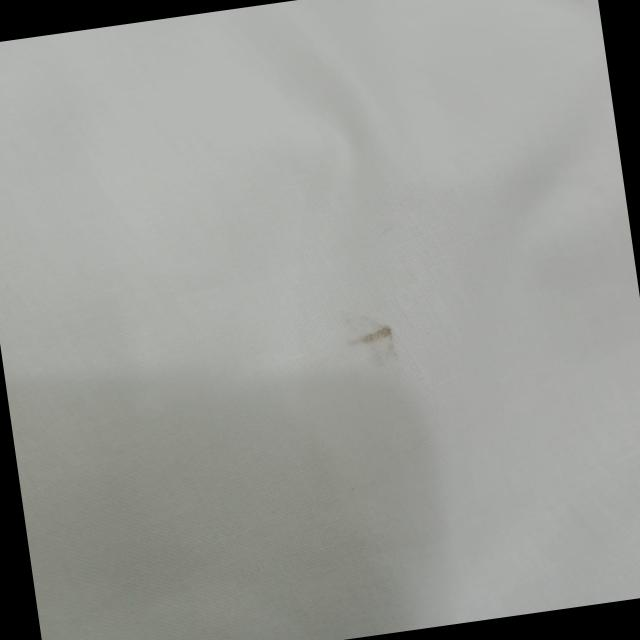stain: (337, 312, 423, 386)
